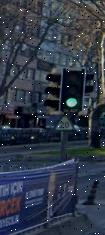greenlight: (63, 68, 85, 112)
